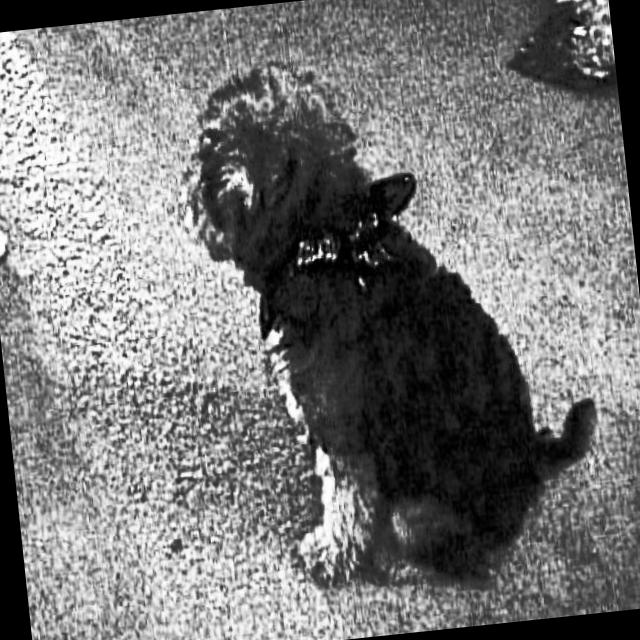Dog: (162, 24, 618, 614)
